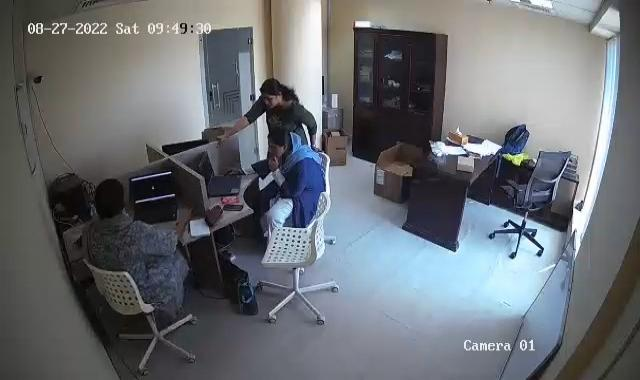no_hairnet: (94, 176, 128, 215), (268, 123, 296, 158), (259, 75, 282, 108)
